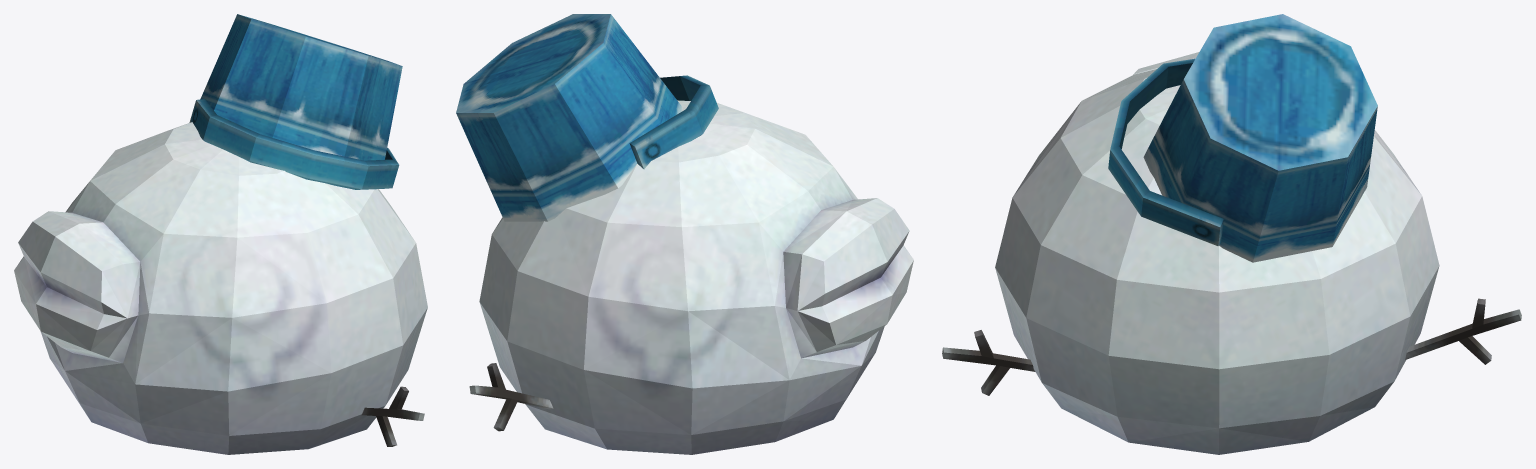
Rendered from Wolf_snowmanHead.obj.
The picture shows the model from 3 angles, left to right: view 1: azimuth 30°, elevation 25°; view 2: azimuth 150°, elevation 25°; view 3: azimuth 270°, elevation 25°; orthographic projection. The views are drawn at different scales.
Parts seen in each view (by area): view 1: Wolf_snowmanHead_tri; view 2: Wolf_snowmanHead_tri; view 3: Wolf_snowmanHead_tri.
Boxes of the visible parts, x1,y1,x2,y2 form: Wolf_snowmanHead_tri: [14, 14, 427, 454]; Wolf_snowmanHead_tri: [456, 14, 913, 454]; Wolf_snowmanHead_tri: [942, 14, 1521, 454].
Size of the model in its own units: 0.364 by 0.3359 by 0.4266.
1 material, 1 textured.
